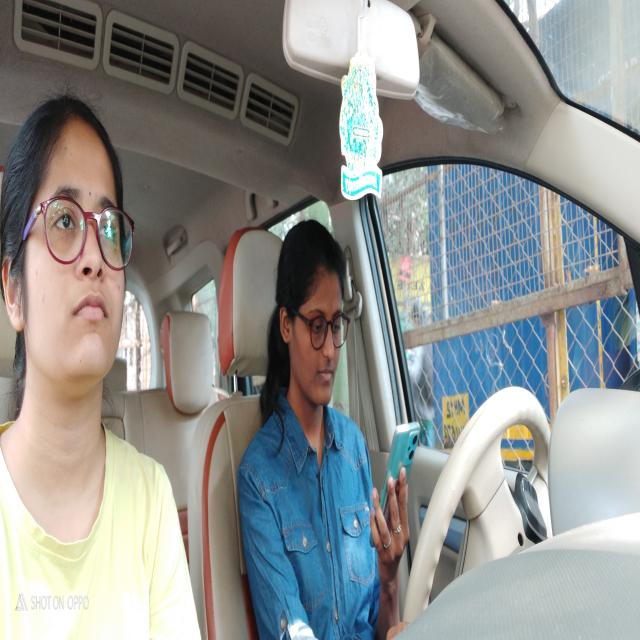mobile: (370, 412, 421, 561)
person: (0, 85, 133, 392), (274, 214, 354, 415)
